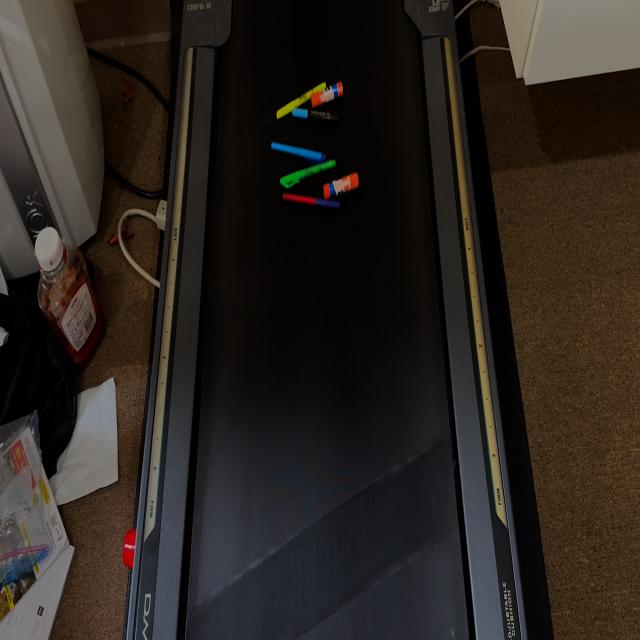Trash: (276, 80, 330, 122), (281, 157, 337, 189), (283, 193, 341, 216), (271, 142, 327, 164), (323, 169, 360, 197), (292, 105, 336, 126), (306, 82, 344, 106)
